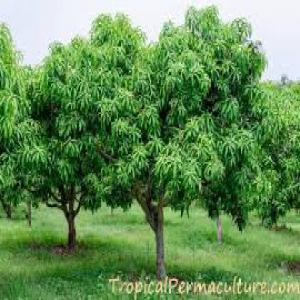Tree: (87, 3, 270, 282), (29, 30, 105, 260)
